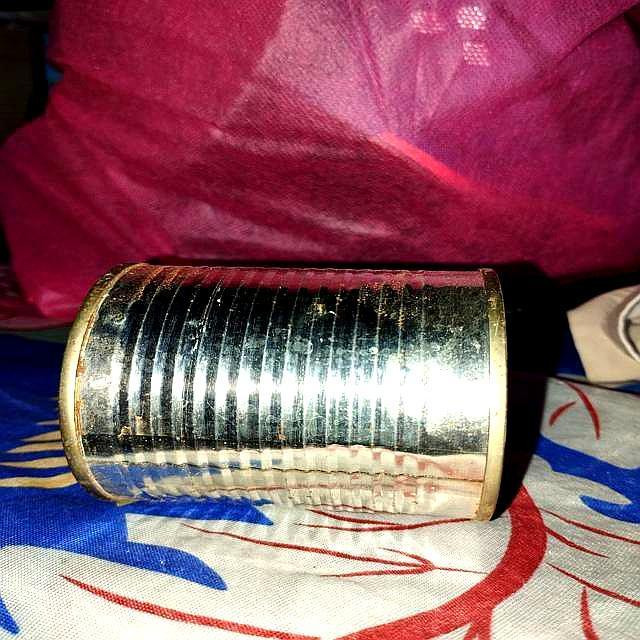Non-biodegradable: (57, 261, 512, 524)
